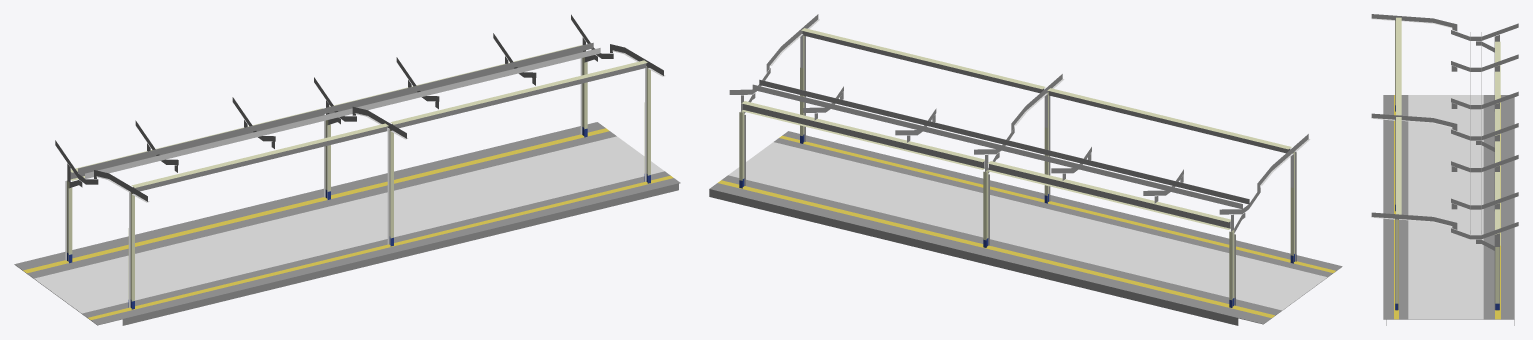
File: howtomake JO13.glb
The picture shows the model from 3 angles, left to right: view 1: azimuth 30°, elevation 25°; view 2: azimuth 150°, elevation 25°; view 3: azimuth 270°, elevation 25°; orthographic projection. The views are drawn at different scales.
Parts seen in each view (by area): view 1: 8, 4, 8-3, 7, 7-2, 1, 5-4, 5-3, 5, 2-4.001, 3, 5-2 (+3 smaller); view 2: 8, 4, 8-3, 3, 3-2, 7, 7-2, 1, 5-3, 5, 2-3.001, 2-2.001 (+1 smaller); view 3: 8, 1, 5, 7-2, 3-2, 2, 5-2, 4, 2-2.001, 1-2, 5-3.
Part boxes in pixels (x1=…): 8: x1=14, y1=122, x2=680, y2=325; 4: x1=78, y1=42, x2=600, y2=178; 8-3: x1=122, y1=183, x2=678, y2=325; 7: x1=133, y1=63, x2=646, y2=191; 7-2: x1=131, y1=60, x2=647, y2=187; 1: x1=55, y1=14, x2=613, y2=184; 5-4: x1=131, y1=68, x2=665, y2=309; 5-3: x1=96, y1=50, x2=646, y2=307; 5: x1=94, y1=44, x2=663, y2=201; 2-4.001: x1=68, y1=62, x2=587, y2=263; 3: x1=70, y1=51, x2=583, y2=179; 5-2: x1=130, y1=66, x2=649, y2=307; 8: x1=709, y1=131, x2=1342, y2=324; 4: x1=752, y1=79, x2=1249, y2=209; 8-3: x1=709, y1=189, x2=1238, y2=325; 3: x1=743, y1=104, x2=1230, y2=228; 3-2: x1=741, y1=101, x2=1230, y2=229; 7: x1=802, y1=31, x2=1290, y2=153; 7-2: x1=801, y1=28, x2=1291, y2=149; 1: x1=729, y1=68, x2=1260, y2=214; 5-3: x1=770, y1=34, x2=1293, y2=263; 5: x1=766, y1=14, x2=1308, y2=191; 2-3.001: x1=739, y1=112, x2=1232, y2=307; 2-2.001: x1=740, y1=111, x2=1234, y2=306; 8: x1=1383, y1=95, x2=1514, y2=319; 1: x1=1451, y1=23, x2=1518, y2=239; 5: x1=1371, y1=14, x2=1457, y2=309; 7-2: x1=1396, y1=17, x2=1401, y2=214; 3-2: x1=1495, y1=41, x2=1500, y2=245; 2: x1=1476, y1=35, x2=1499, y2=309; 5-2: x1=1395, y1=20, x2=1398, y2=310; 4: x1=1470, y1=32, x2=1481, y2=234; 2-2.001: x1=1495, y1=247, x2=1499, y2=310; 1-2: x1=1451, y1=65, x2=1499, y2=209; 5-3: x1=1399, y1=20, x2=1451, y2=226.
Bounding box in the file's own units: 158 × 38.75 × 43.81.
